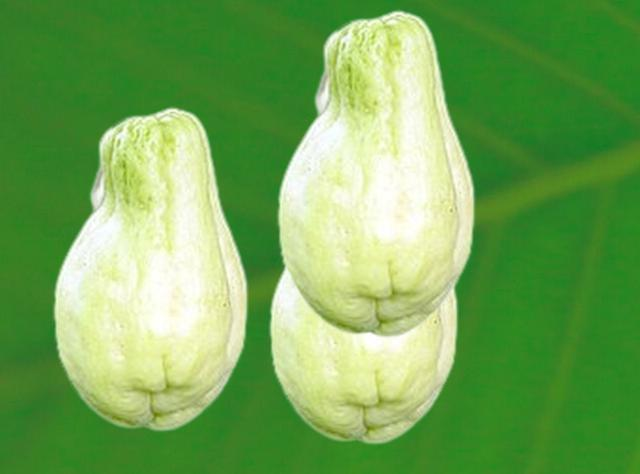sayote: (276, 9, 474, 338), (52, 106, 247, 431), (268, 265, 457, 444)
